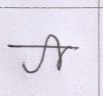i_matra: (48, 34, 66, 70)
